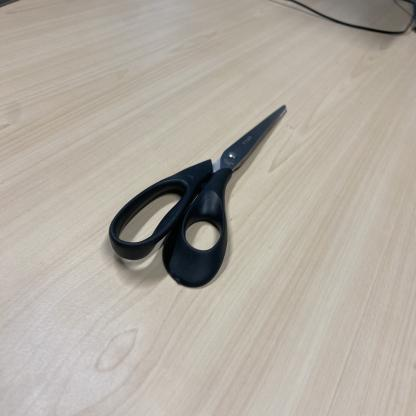scissors: (108, 103, 288, 288)
